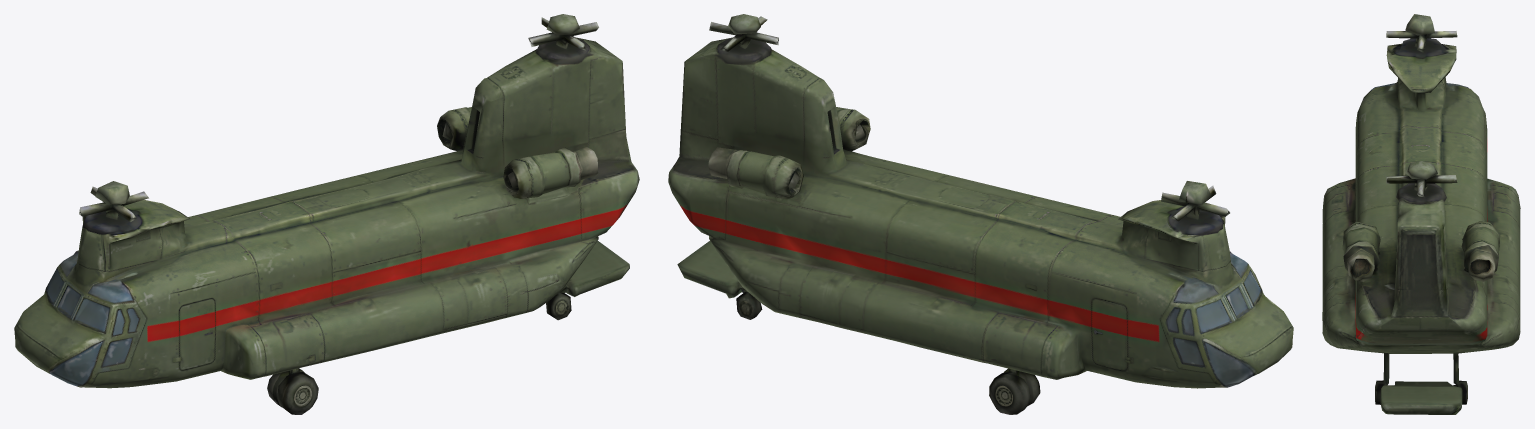
The model's file is transport_helicopter_tripo.glb.
3 views of the same model, side by side, from view 1: azimuth 30°, elevation 25°; view 2: azimuth 150°, elevation 25°; view 3: azimuth 270°, elevation 25° (orthographic). The views are drawn at different scales.
Parts seen in each view (by area): view 1: tripo_node_49107dce-86b7-459f-8c30-f8f73c351db5; view 2: tripo_node_49107dce-86b7-459f-8c30-f8f73c351db5; view 3: tripo_node_49107dce-86b7-459f-8c30-f8f73c351db5.
Part boxes in pixels (bbox=[...]): tripo_node_49107dce-86b7-459f-8c30-f8f73c351db5: bbox=[14, 14, 639, 414]; tripo_node_49107dce-86b7-459f-8c30-f8f73c351db5: bbox=[668, 14, 1293, 414]; tripo_node_49107dce-86b7-459f-8c30-f8f73c351db5: bbox=[1322, 14, 1520, 414].
Bounding box in the file's own units: 1 × 0.4731 × 0.3234.
1 material, 1 textured.
